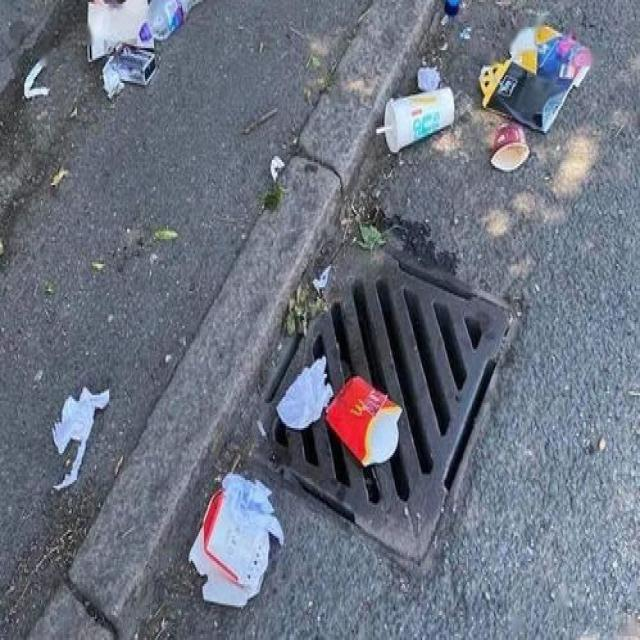garbage: (186, 353, 403, 611), (375, 0, 595, 172), (86, 0, 204, 98)
